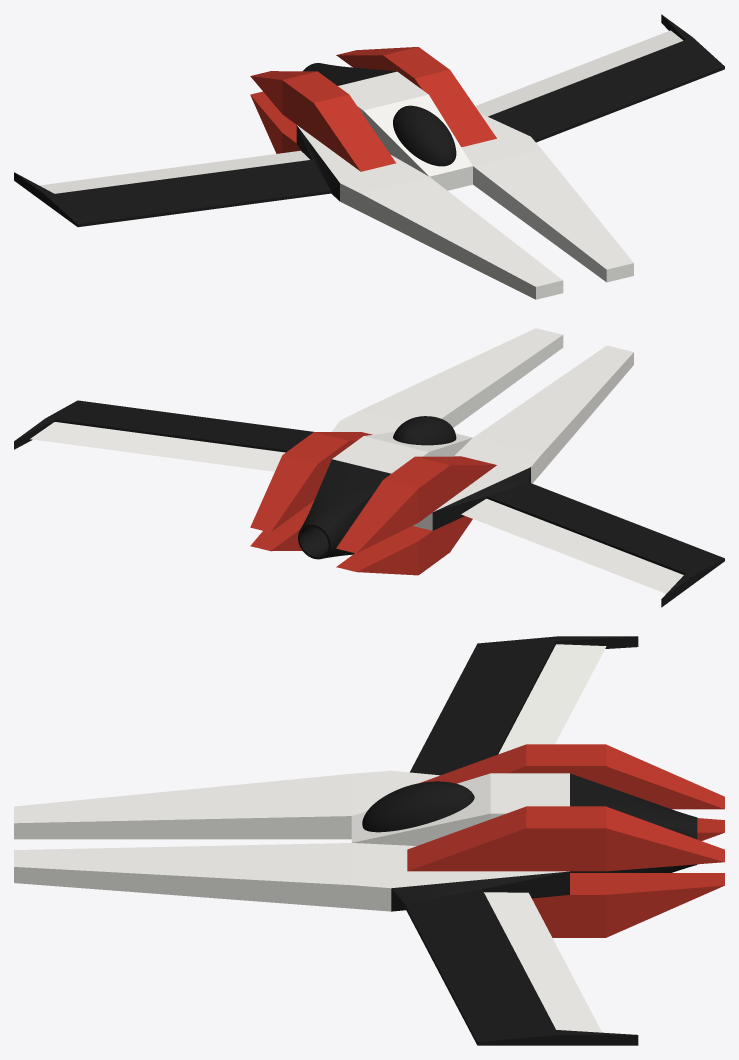
The model's file is Fighter v8.fbx.
3 views of the same model, one above another, from view 1: azimuth 30°, elevation 25°; view 2: azimuth 150°, elevation 25°; view 3: azimuth 270°, elevation 25° (orthographic). The views are drawn at different scales.
Parts seen in each view (by area): view 1: Body, RightWing, LeftWing, RightUp, LeftUp, LeftFlip, RightFlip, Window, RightDown, Injector; view 2: Body, RightWing, RightUp, LeftWing, RightFlip, LeftFlip, LeftUp, Injector, RightDown, Window, LeftDown; view 3: Body, LeftWing, LeftUp, RightWing, LeftDown, RightUp, LeftFlip, RightFlip, Window, Injector.
Part boxes in pixels (x1,y1,x2,y2): Body: (297, 71, 633, 299); RightWing: (14, 125, 339, 227); LeftWing: (488, 14, 724, 142); RightUp: (250, 71, 395, 171); LeftUp: (336, 47, 496, 146); LeftFlip: (475, 30, 683, 116); RightFlip: (39, 150, 309, 193); Window: (393, 105, 456, 166); RightDown: (250, 91, 300, 153); Injector: (303, 63, 396, 85); Body: (313, 328, 633, 530); RightWing: (432, 467, 724, 607); RightUp: (336, 456, 496, 553); LeftWing: (14, 400, 313, 452); RightFlip: (461, 498, 683, 593); LeftFlip: (30, 422, 285, 471); LeftUp: (250, 432, 372, 532); Injector: (298, 459, 390, 559); RightDown: (336, 516, 472, 575); Window: (393, 416, 456, 445); LeftDown: (250, 501, 313, 551); Body: (14, 770, 569, 911); LeftWing: (391, 871, 638, 1045); LeftUp: (407, 806, 724, 871); RightWing: (410, 636, 638, 775); LeftDown: (532, 873, 724, 937); RightUp: (420, 744, 724, 809); LeftFlip: (484, 892, 601, 1032); RightFlip: (498, 644, 606, 754); Window: (362, 781, 474, 832); Injector: (570, 773, 697, 872).
Size of the model in its own units: 237 by 30.96 by 179.
